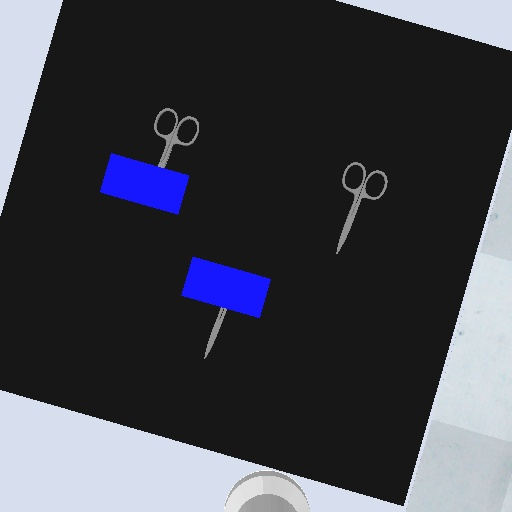tijera: (332, 160, 390, 257), (151, 106, 201, 169), (202, 307, 228, 361)
